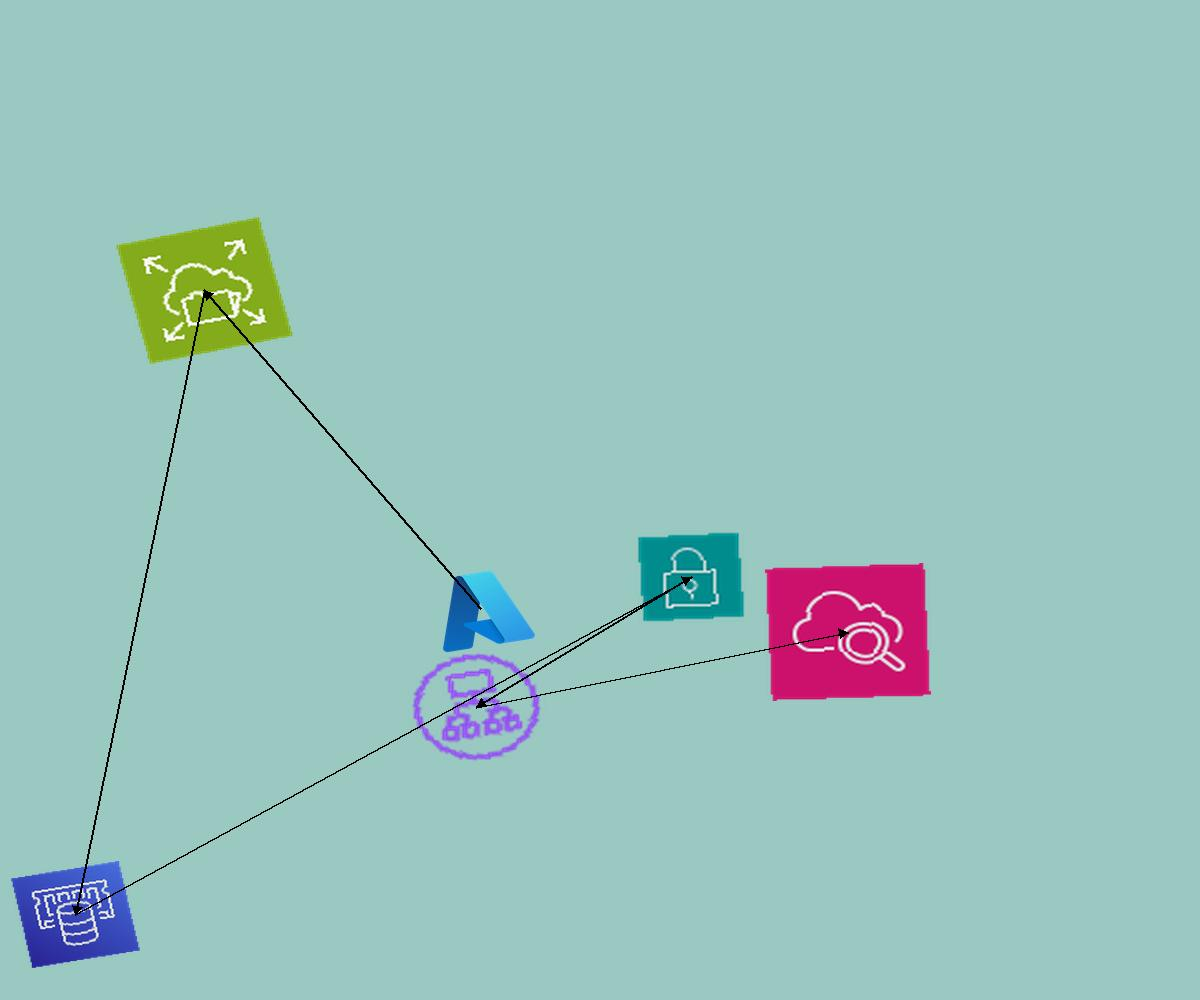AWS-CloudWatch: (765, 563, 931, 701)
AWS-EFS: (115, 216, 294, 365)
AWS-ElastiCache: (10, 860, 141, 969)
AWS-Private-subnet: (636, 531, 746, 623)
AWS-Res_Elastic-Load-Balancing_Application-Load-Balancer: (394, 638, 559, 776)
Azure_services: (422, 560, 541, 659)
